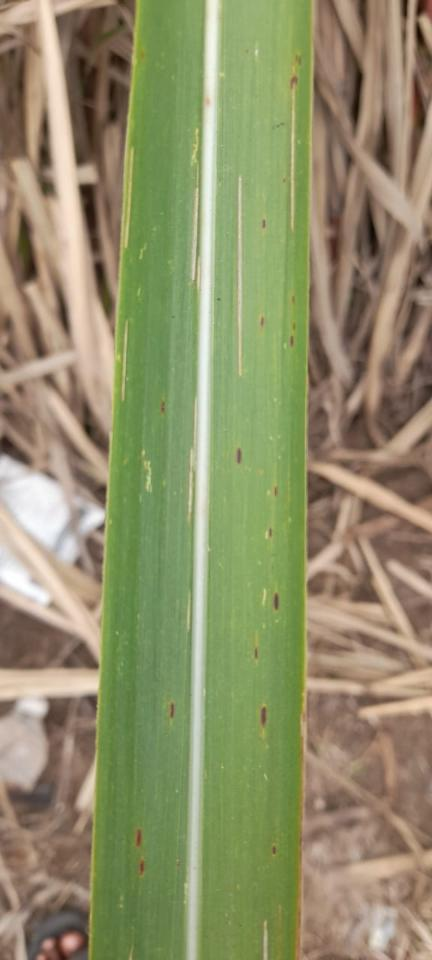Rust: (289, 53, 304, 93), (135, 826, 145, 880), (167, 698, 178, 728), (259, 702, 269, 733), (273, 588, 282, 615), (234, 444, 244, 466), (159, 398, 167, 417), (271, 842, 279, 858), (252, 646, 260, 662), (271, 485, 279, 500), (258, 314, 266, 328), (260, 217, 268, 231), (266, 525, 273, 540), (289, 335, 294, 350), (290, 295, 295, 306), (292, 322, 297, 332)
